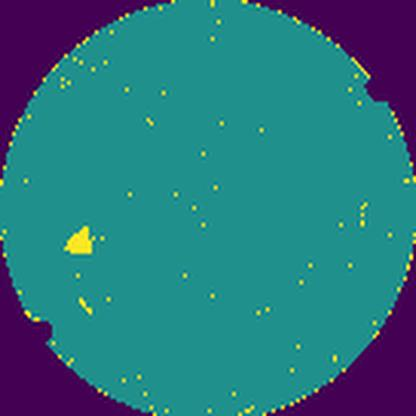Loc: (64, 226, 93, 256)
